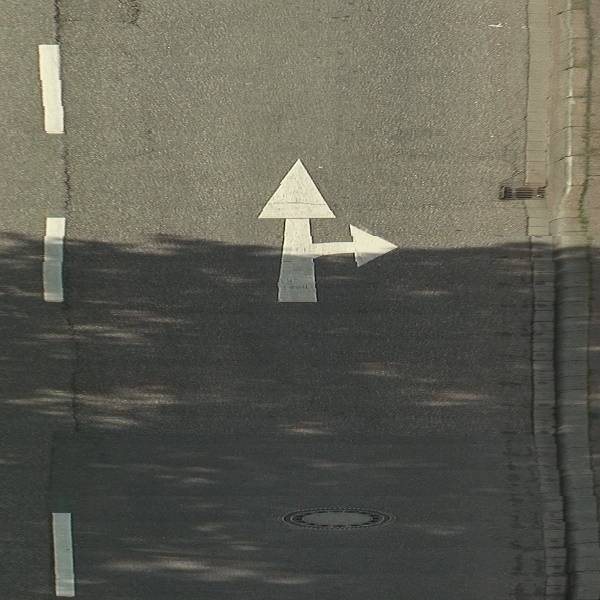road_damage: (59, 311, 84, 439), (57, 148, 75, 214), (126, 1, 149, 31)
